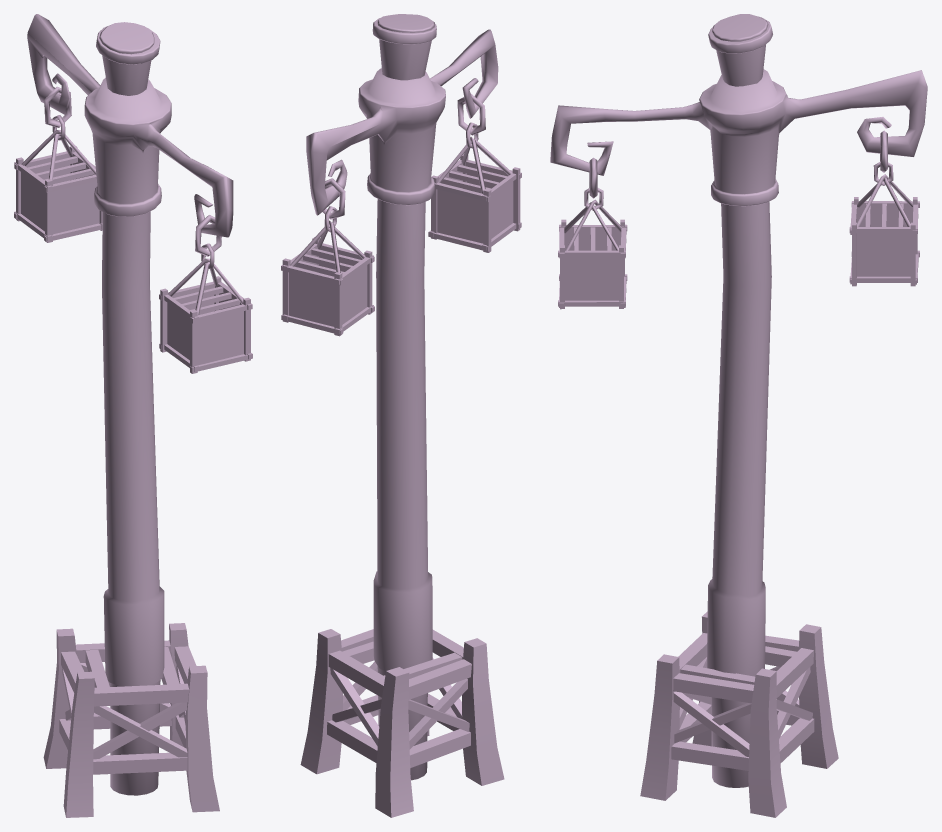
3 views of the same model, side by side, from view 1: azimuth 30°, elevation 25°; view 2: azimuth 150°, elevation 25°; view 3: azimuth 270°, elevation 25° (orthographic).
Parts seen in each view (by area): view 1: Pillar_low, Platform_low, Hook_low, Lamp_low.001, Lamp_low, Rope_low.001, Rope_low, Big_ring_low.001, Big_ring_low; view 2: Pillar_low, Platform_low, Hook_low, Lamp_low, Lamp_low.001, Rope_low.001, Rope_low, Big_ring_low.001; view 3: Pillar_low, Platform_low, Hook_low, Lamp_low, Lamp_low.001, Rope_low, Rope_low.001.
Boxes of the visible parts, x1,y1,x2,y2 form: Pillar_low: (99,22,164,795); Platform_low: (43,623,219,817); Hook_low: (27,14,233,237); Lamp_low.001: (159,276,252,373); Lamp_low: (14,146,102,242); Rope_low.001: (168,258,243,315); Rope_low: (21,130,96,180); Big_ring_low.001: (195,215,221,256); Big_ring_low: (44,86,71,127); Pillar_low: (373,14,434,780); Platform_low: (300,629,504,817); Hook_low: (306,18,498,215); Lamp_low: (281,237,374,336); Lamp_low.001: (428,154,521,252); Rope_low.001: (438,137,512,193); Rope_low: (290,220,365,272); Big_ring_low.001: (457,93,485,135); Pillar_low: (706,14,771,787); Platform_low: (640,611,838,817); Hook_low: (550,17,927,206); Lamp_low: (849,197,919,286); Lamp_low.001: (558,219,627,309); Rope_low: (857,174,912,226); Rope_low.001: (564,199,621,251).
Size of the model in its own units: 0.4648 by 2 by 0.9094.
